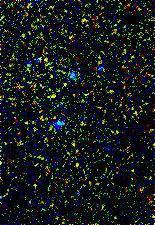star: (38, 81, 68, 111)
